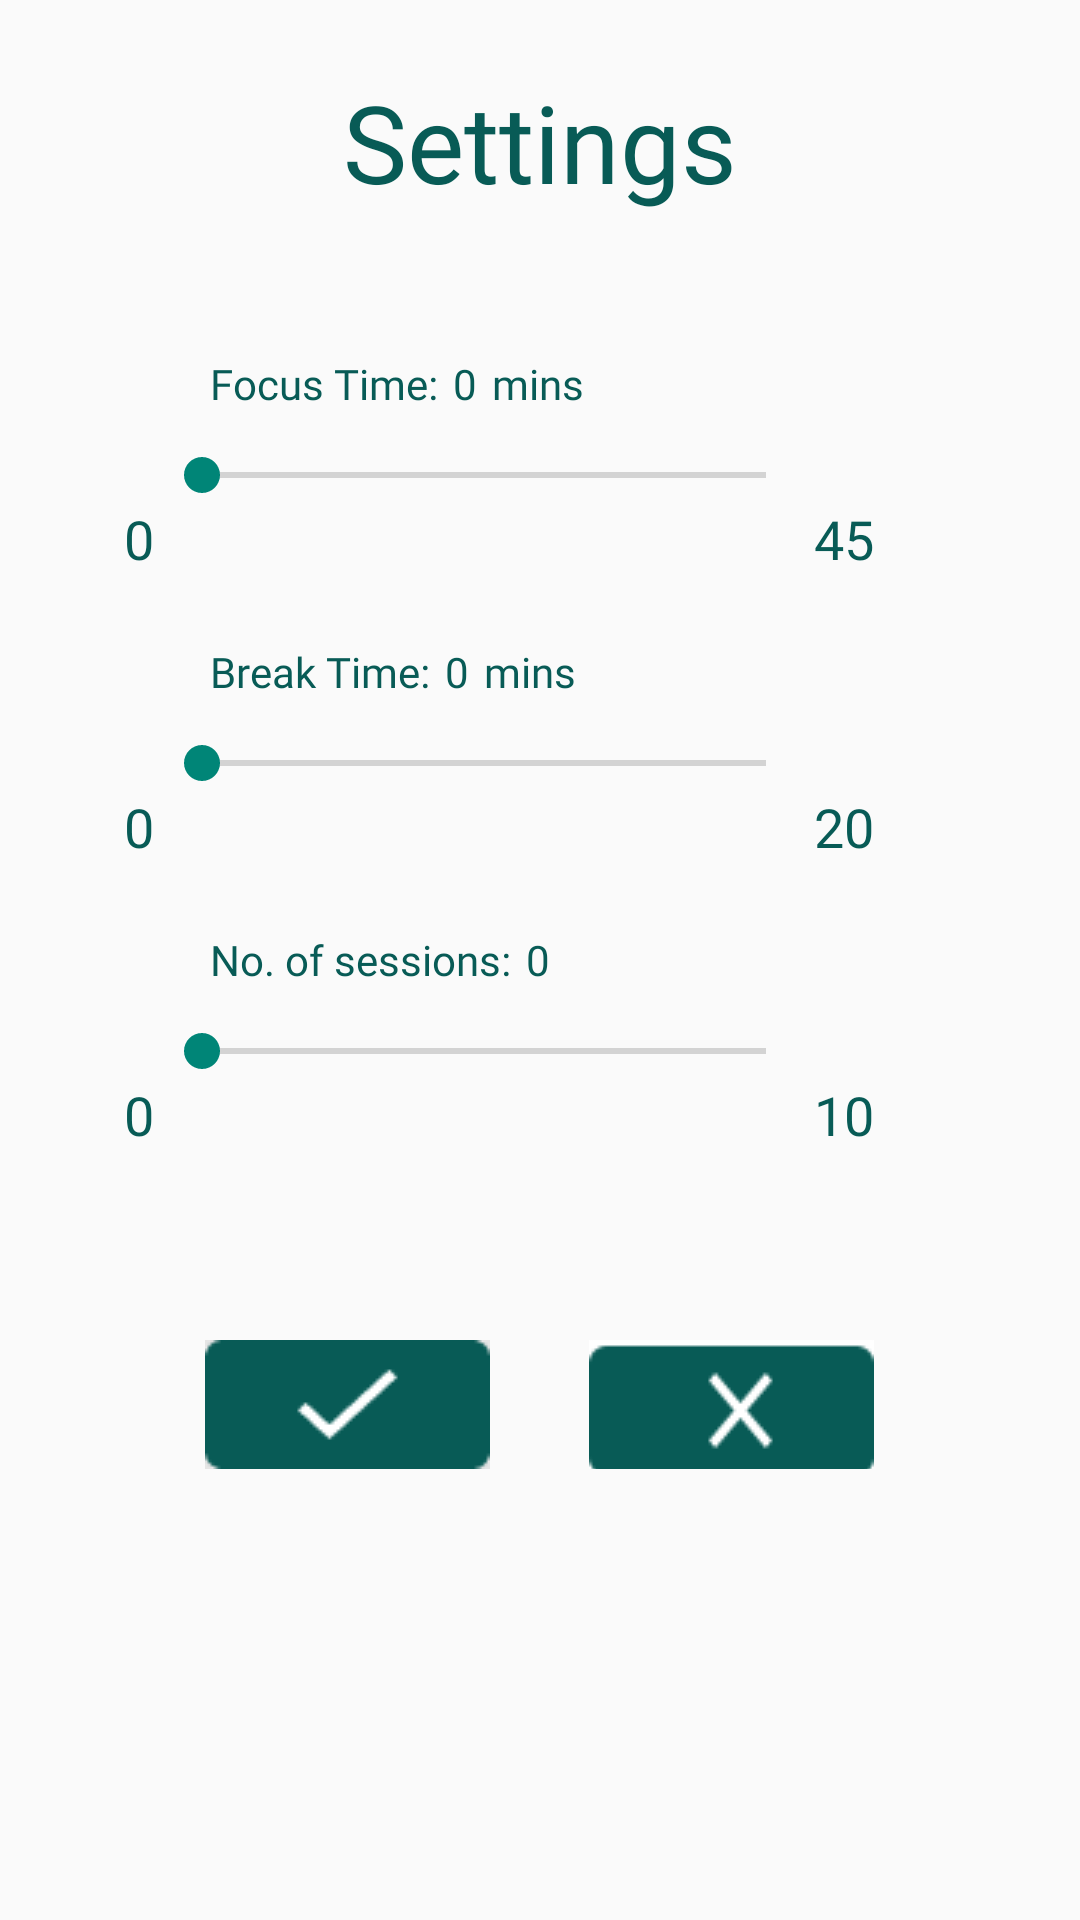

Icon click points for this 1080 × 1920 phone screenshot, format (x,y):
crossbutton: (731,1407)
tickbutton: (347,1404)
